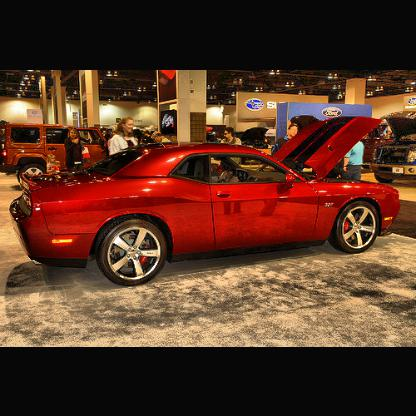Dodge Challenger SRT8 2011: (12, 143, 403, 285)
